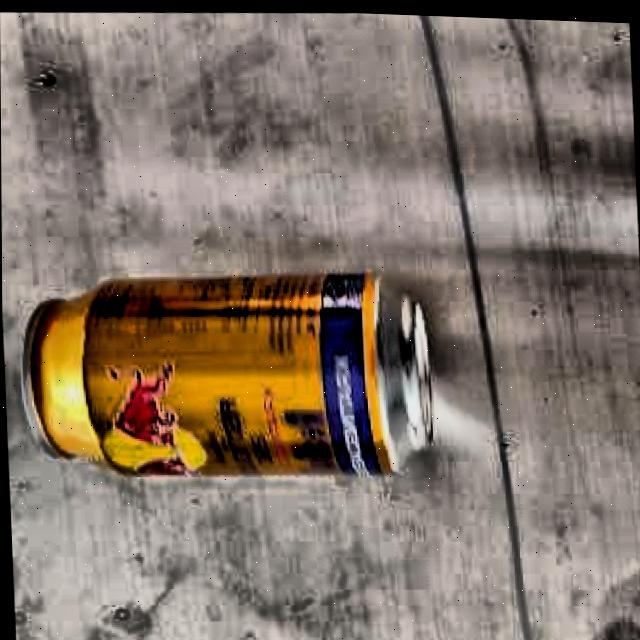metal: (1, 247, 470, 505)
